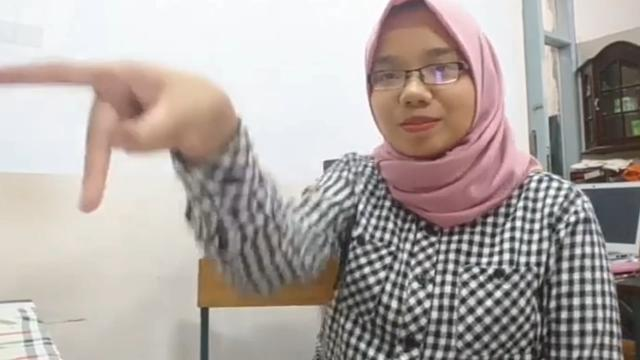P: (0, 50, 244, 218)
